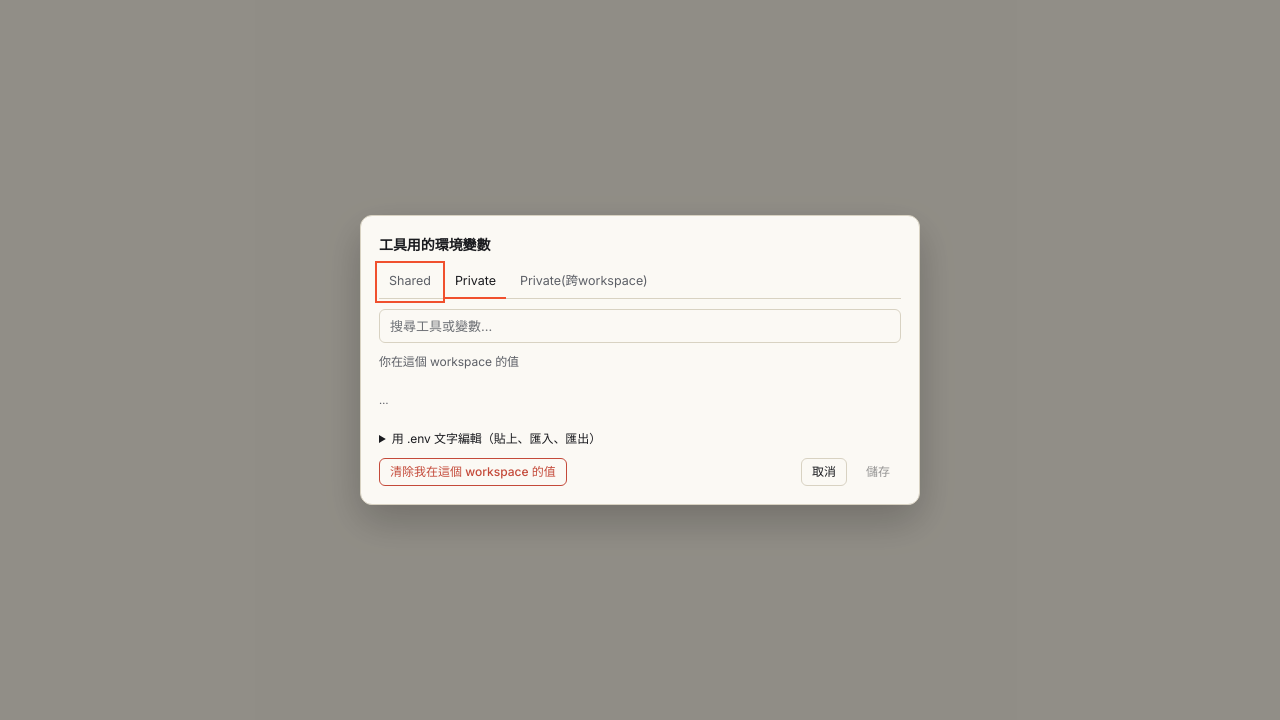
Test: a value of mine that no tool declared (2026-10-12) › is listed on Private(跨workspace), saying this item uses it
Click the tab with test id "env-tab-personal": x=584, y=282 [510,265,658,299]
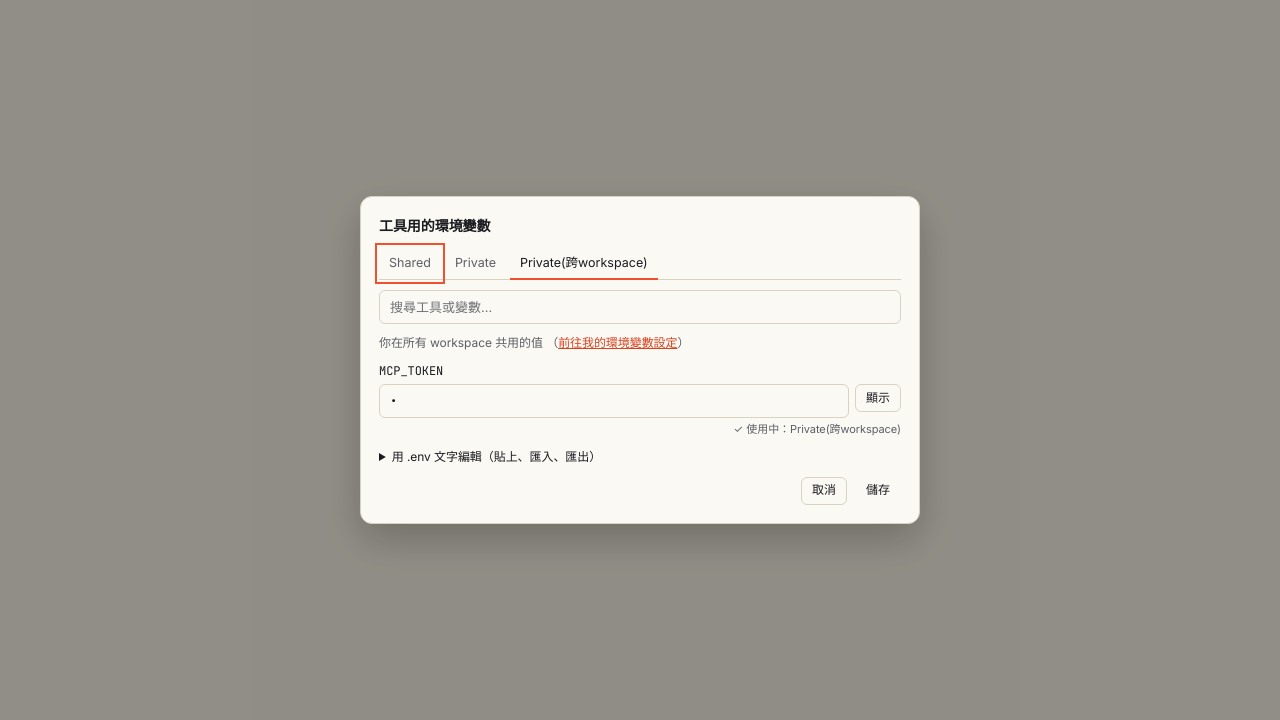
expect the element with test id "env-personal-row-MCP_TOKEN" shows "使用中：Private(跨workspace)": met, box [746,422,901,436]
